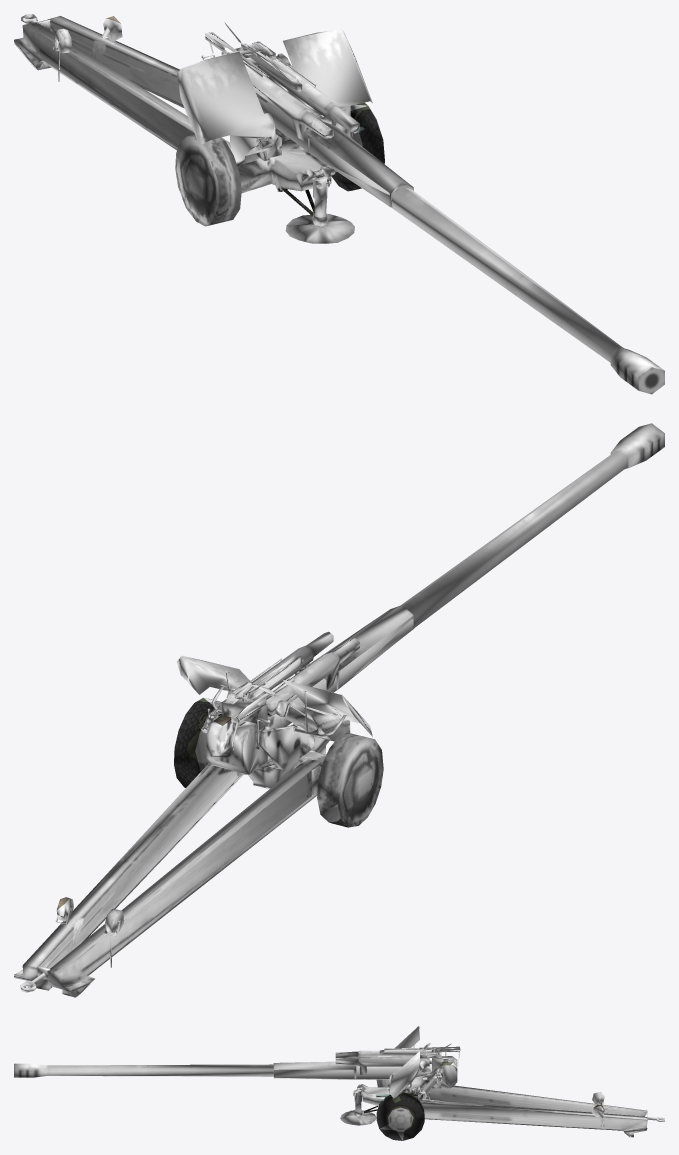
File: howitzer.glb
3 renders of one model, top to bottom at view 1: azimuth 30°, elevation 25°; view 2: azimuth 150°, elevation 25°; view 3: azimuth 270°, elevation 25°, orthographic. The views are drawn at different scales.
Parts seen in each view (by area): view 1: howitzer; view 2: howitzer; view 3: howitzer.
Part boxes in pixels (left/top/right/bottom): howitzer: left=14, top=14, right=664, bottom=394; howitzer: left=14, top=423, right=664, bottom=997; howitzer: left=14, top=1026, right=664, bottom=1140.
Bounding box in the file's own units: 1.93 × 1.8 × 12.
Materials: 2 (2 with a texture image).
